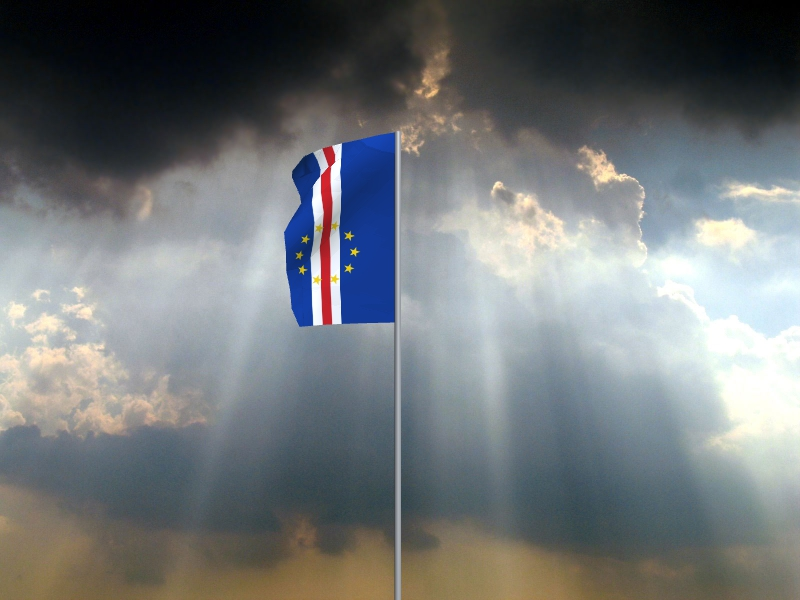cv: (283, 133, 395, 329)
